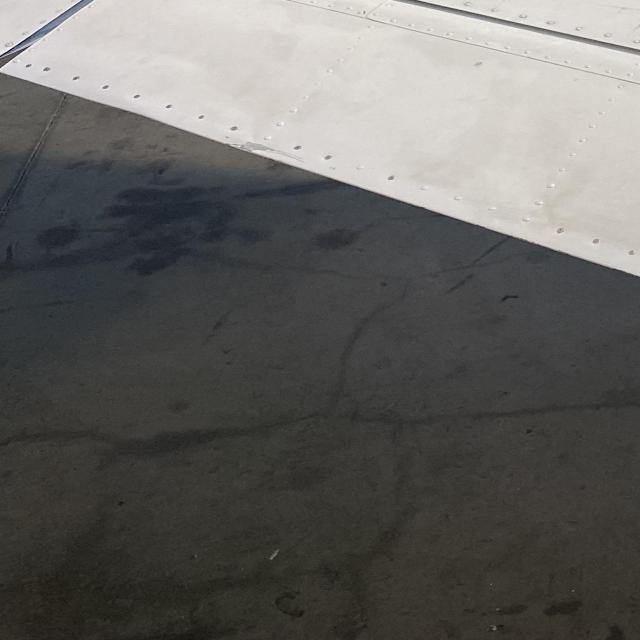Paint-off: (232, 137, 278, 153)
Scratch: (279, 150, 304, 164), (633, 13, 640, 31)
